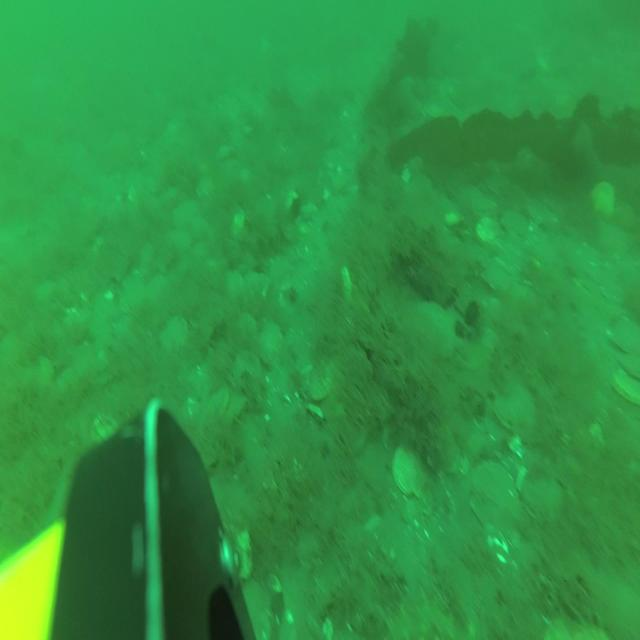scallop: (471, 462, 516, 542), (413, 300, 456, 367), (525, 465, 563, 526), (497, 377, 533, 435), (389, 442, 421, 493), (612, 357, 640, 408), (606, 314, 640, 353), (160, 310, 188, 353), (256, 317, 283, 360), (480, 256, 510, 293), (220, 396, 247, 437), (309, 358, 334, 402), (592, 177, 618, 215), (203, 389, 228, 428), (477, 215, 503, 247), (620, 344, 640, 380), (172, 202, 198, 229), (230, 201, 246, 238), (197, 175, 214, 201)
